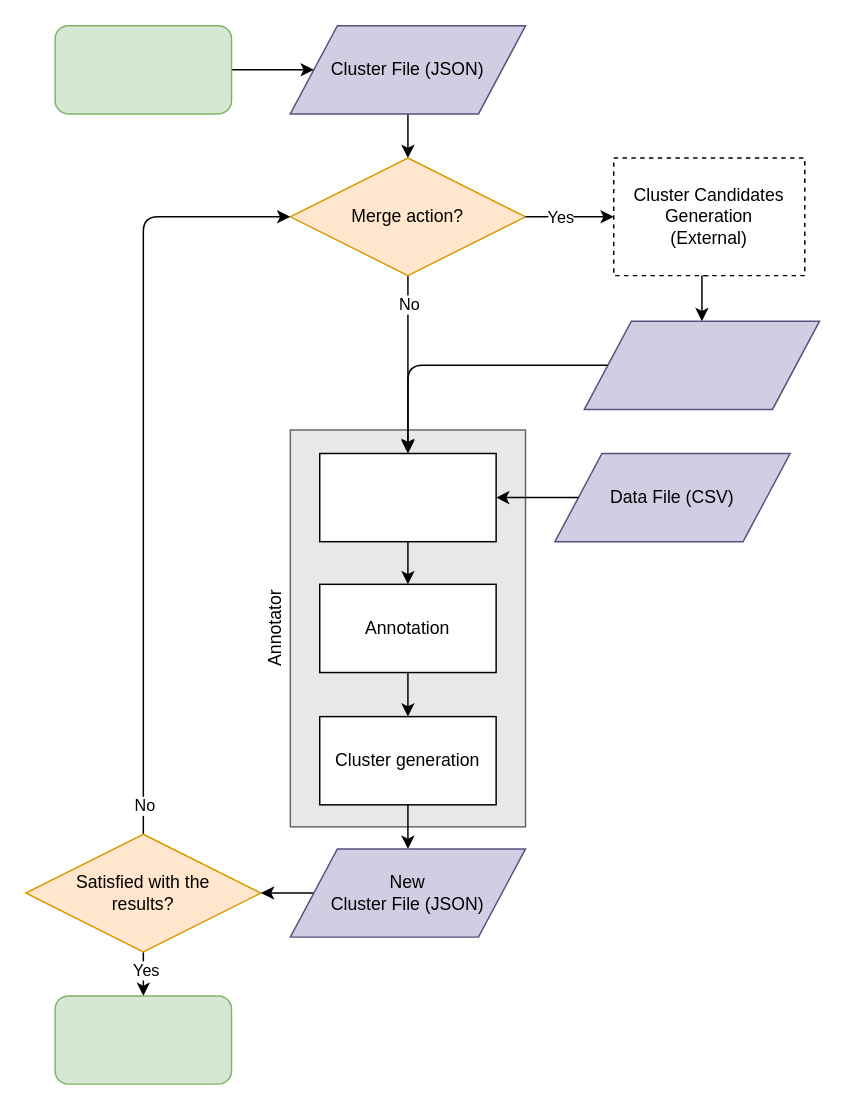
Image size: 845x1110. Some labels were removed from this diagram. Here are the shapes that lost their labels. From the top down, the box of each, then its label:
(54, 24, 232, 114): Start
(583, 320, 820, 409): Augmented Cluster File (JSON)
(318, 452, 496, 542): Mode Selection
(54, 994, 232, 1084): End
